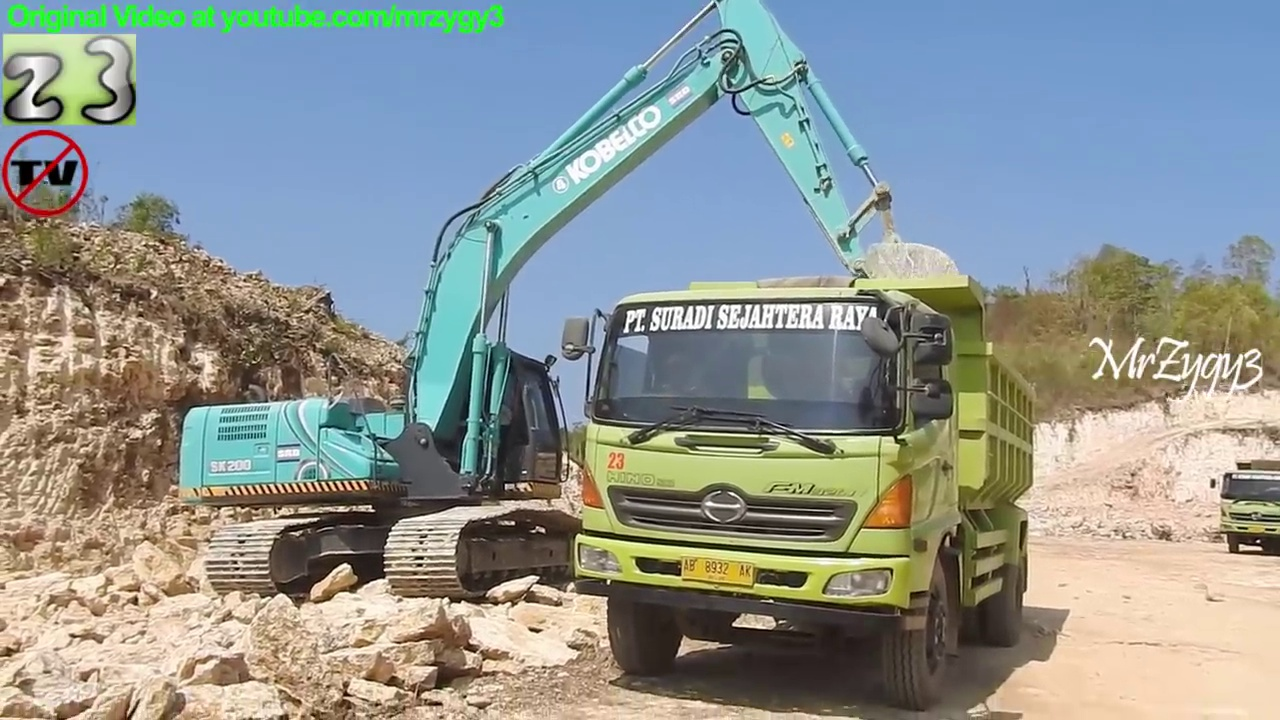excavator: (168, 1, 982, 612)
truck: (554, 267, 1046, 716), (1207, 455, 1280, 561)
